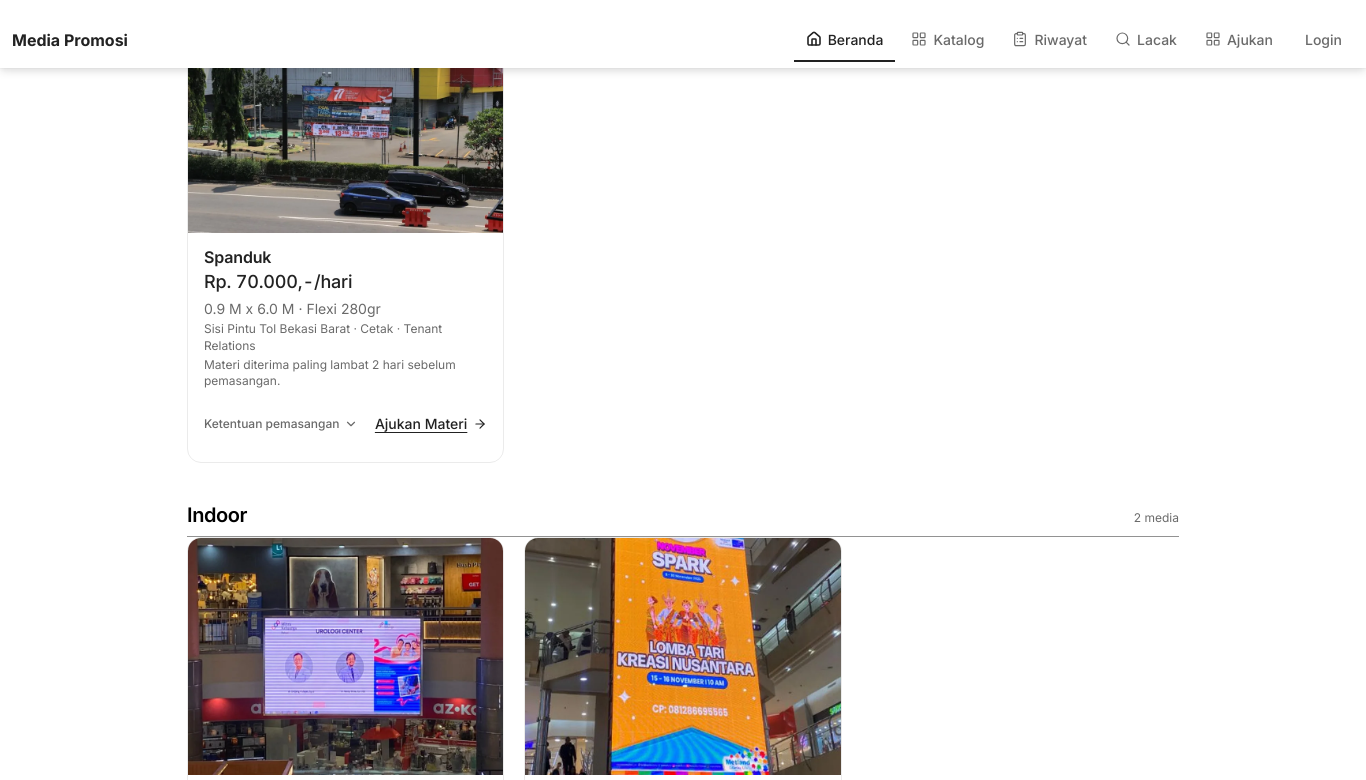
it: PromoLandingPage › expandable rules per kartu
(page scrolled)
expect the heading "Spanduk" is shown: met, box [204, 247, 271, 267]
expect the text "Minimal sewa 1 minggu" is not shown: met
Click the button "Ketentuan pemasangan".
click(281, 424)  # box [204, 402, 358, 446]
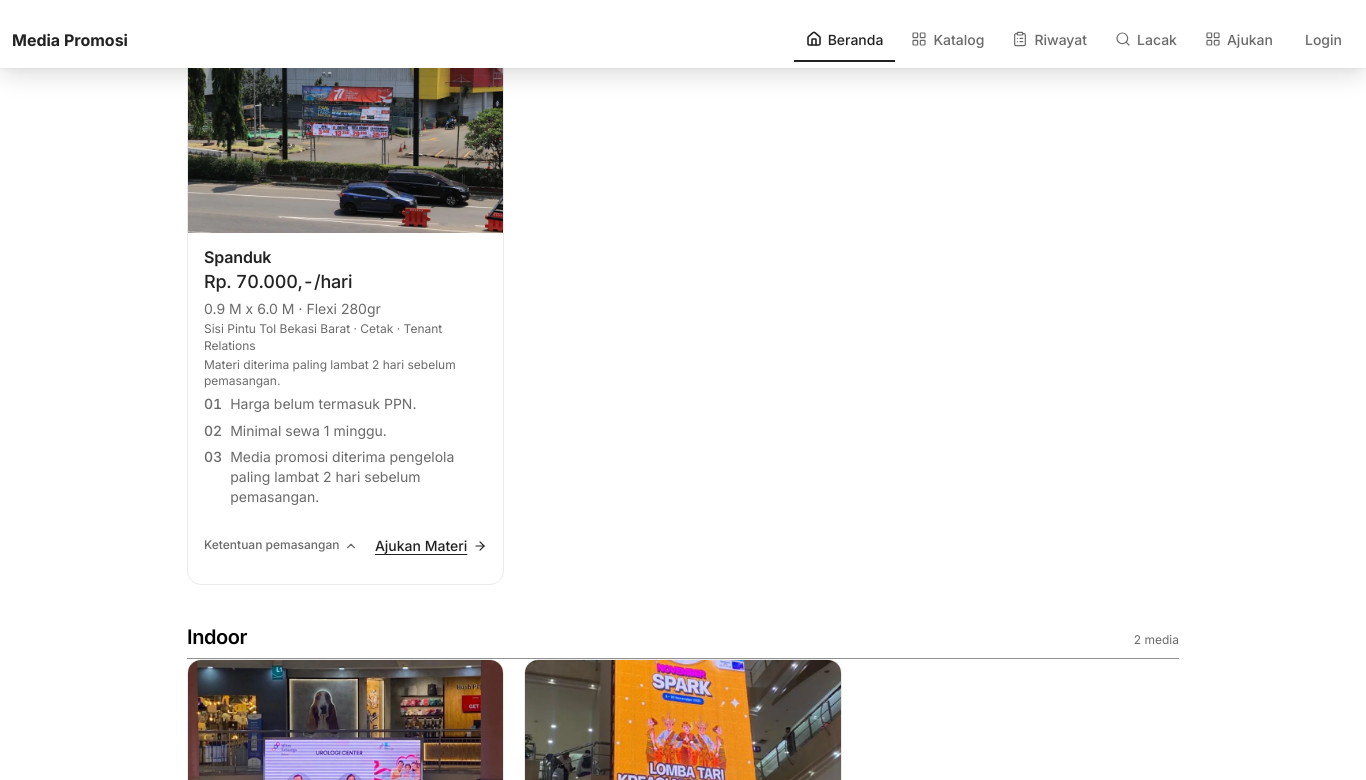
expect the text "Minimal sewa 1 minggu." is shown: met, box [230, 420, 387, 441]
